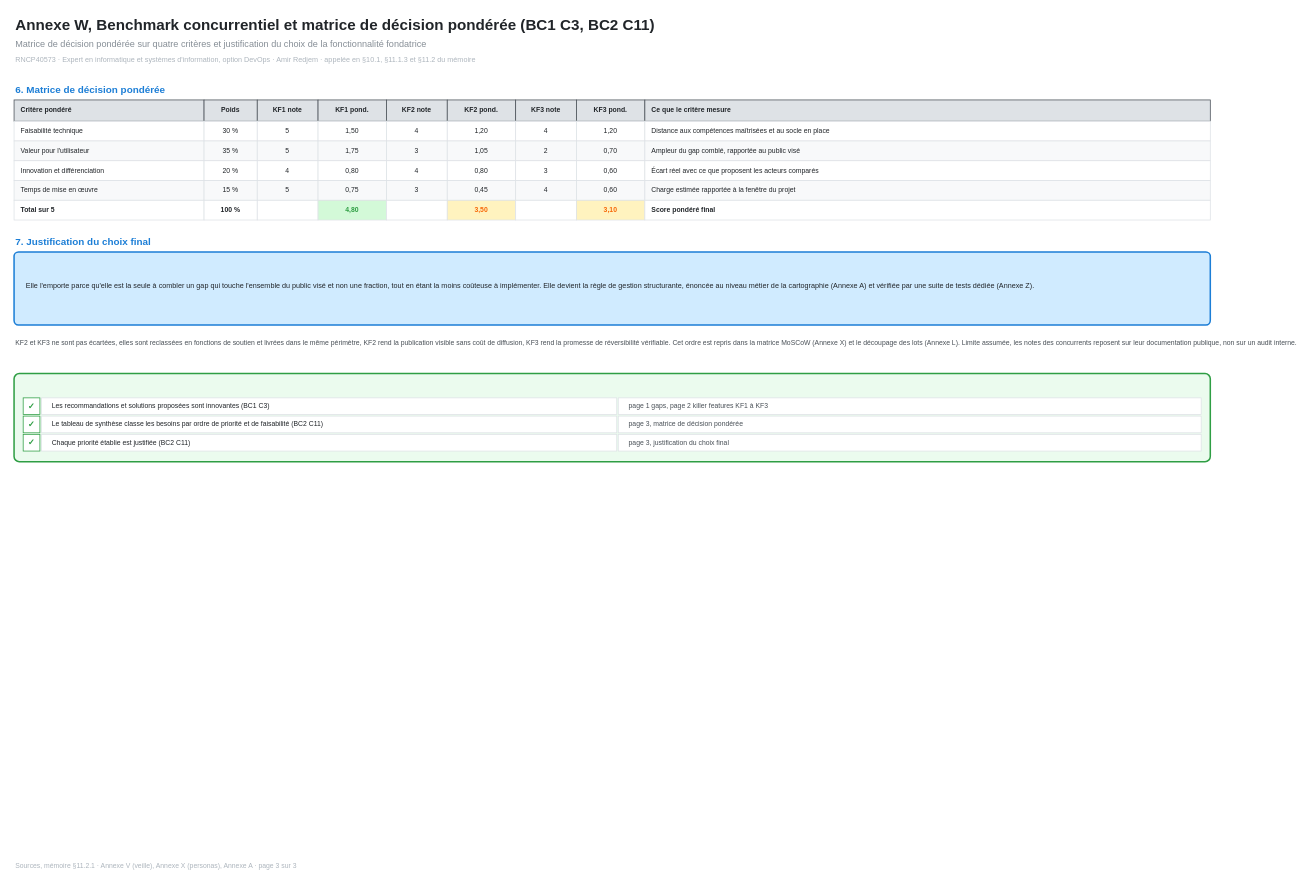
The diagram is 1309 pixels wide and 885 high, and some of its shapes have lost their labels. Each missing label, with the box of its shape:
CRITÈRES DU RÉFÉRENTIEL COUVERTS: (13, 372, 1211, 462)
KF1 retenue comme fonctionnalité fondatrice, score 4,80 sur 5: (13, 251, 1211, 325)
